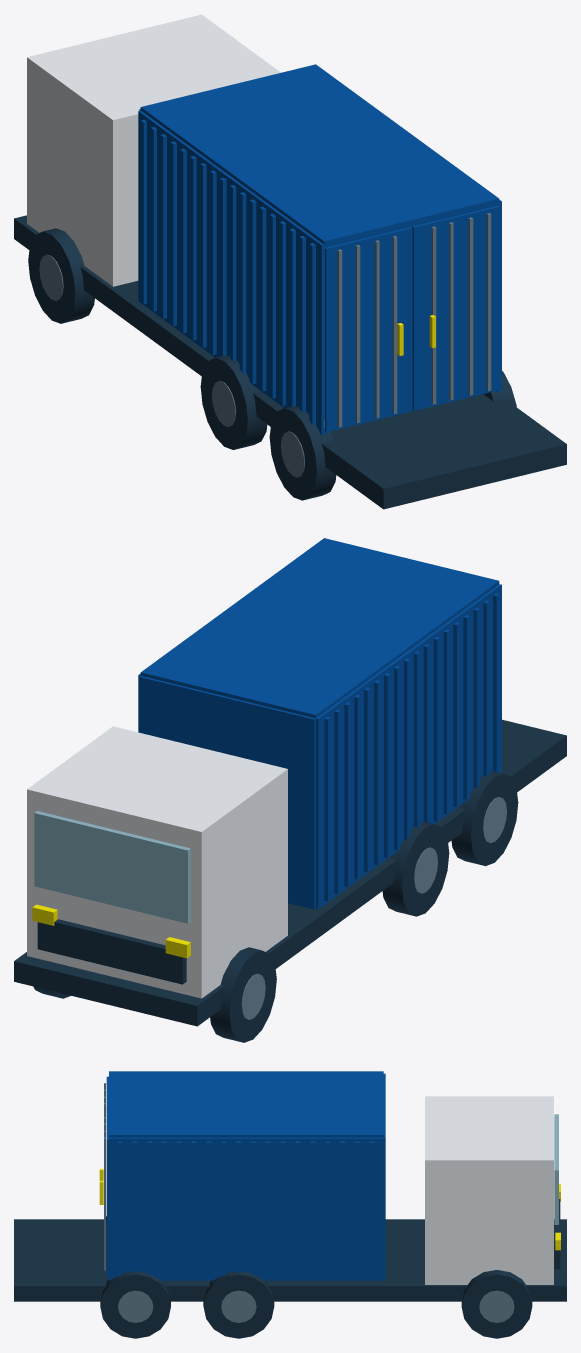
The model's file is truck.glb.
3 views of the same model, one above another, from view 1: azimuth 30°, elevation 25°; view 2: azimuth 150°, elevation 25°; view 3: azimuth 270°, elevation 25° (orthographic). The views are drawn at different scales.
Visible parts, largest first — view 1: ContainerRoof, Cab, DoorPanel (×2), Rib (×18), Chassis, ContainerWall, Tyre (×3), DoorRib (×8), Hub (×3); view 2: Cab, ContainerRoof, Rib (×18), ContainerWall, ContainerBack, Chassis, Windscreen, Tyre (×3), Grille, Hub (×3); view 3: ContainerWall, Cab, ContainerRoof, Chassis, Rib (×18), Tyre (×3), Hub (×3), ContainerBack, Windscreen, DoorPanel.
Part boxes in pixels (box(x1,y1,x2,y2)): ContainerRoof: box(140, 64, 499, 247); Cab: box(27, 14, 280, 286); DoorPanel (×2): box(325, 205, 500, 432); Rib (×18): box(140, 119, 315, 425); Chassis: box(14, 215, 566, 509); ContainerWall: box(138, 110, 326, 435); Tyre (×3): box(28, 228, 336, 500); DoorRib (×8): box(337, 213, 491, 427); Hub (×3): box(39, 254, 304, 477); Cab: box(27, 726, 287, 998); ContainerRoof: box(140, 538, 499, 718); Rib (×18): box(324, 593, 499, 901); ContainerWall: box(316, 584, 501, 908); ContainerBack: box(139, 676, 315, 909); Chassis: box(14, 719, 566, 1026); Windscreen: box(34, 811, 190, 923); Tyre (×3): box(210, 771, 518, 1042); Grille: box(37, 919, 186, 984); Hub (×3): box(241, 797, 506, 1019); ContainerWall: box(109, 1137, 383, 1280); Cab: box(425, 1096, 553, 1284); ContainerRoof: box(109, 1071, 383, 1137); Chassis: box(14, 1219, 566, 1301); Rib (×18): box(117, 1141, 374, 1278); Tyre (×3): box(100, 1270, 532, 1338); Hub (×3): box(118, 1290, 514, 1322); ContainerBack: box(383, 1073, 385, 1279); Windscreen: box(554, 1114, 558, 1224); DoorPanel: box(106, 1108, 108, 1276).
Size of the model in its own units: 2.37 by 2.98 by 7.5.
